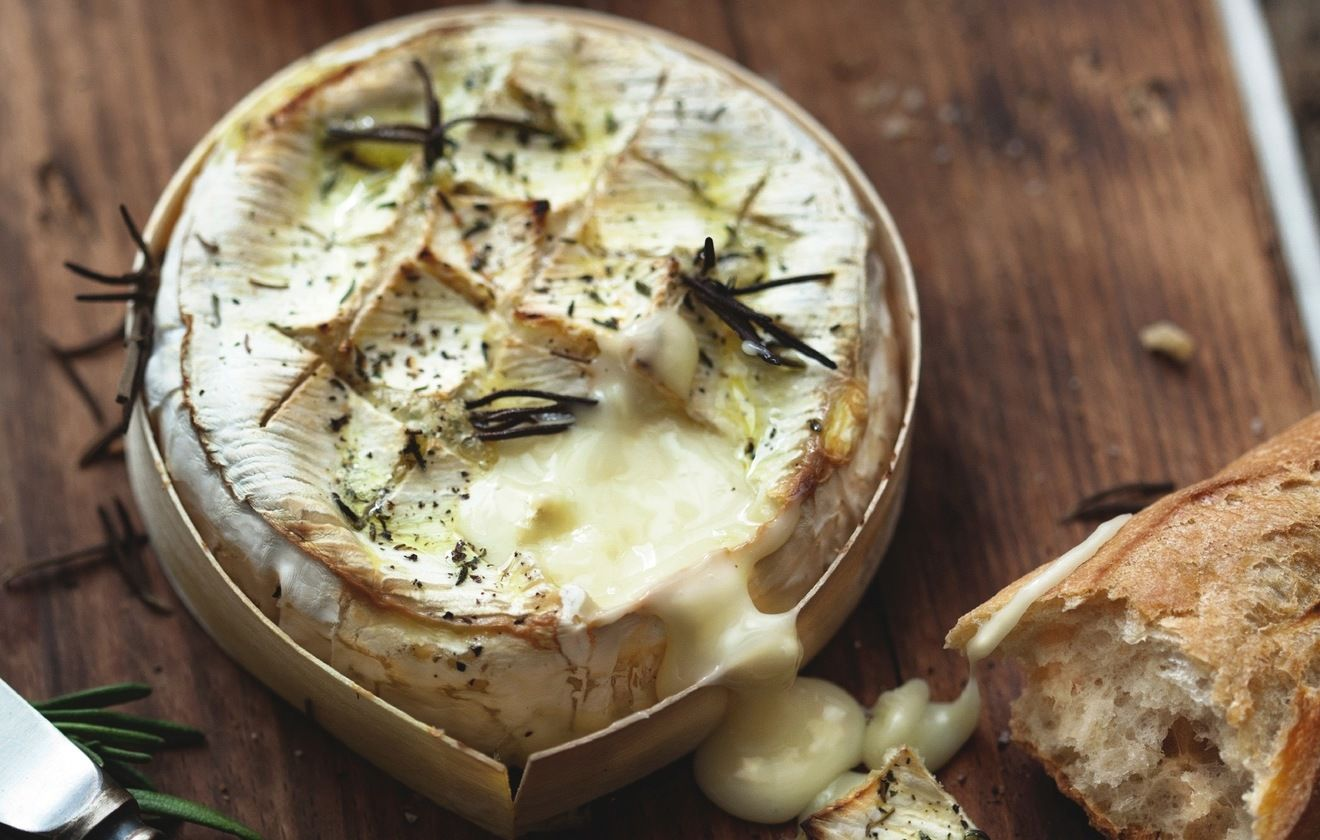camembert: (139, 10, 910, 768)
